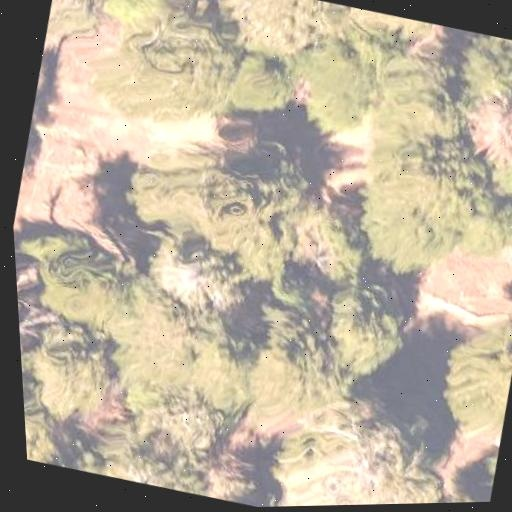tree-top: (333, 101, 512, 294), (261, 377, 456, 507), (98, 363, 259, 505), (118, 202, 267, 339), (89, 18, 247, 144), (18, 299, 149, 436), (284, 8, 415, 144), (305, 264, 420, 386), (418, 297, 512, 438), (18, 213, 135, 325), (205, 26, 315, 128), (449, 69, 512, 171), (445, 29, 512, 114), (88, 0, 227, 31), (415, 475, 492, 503)
